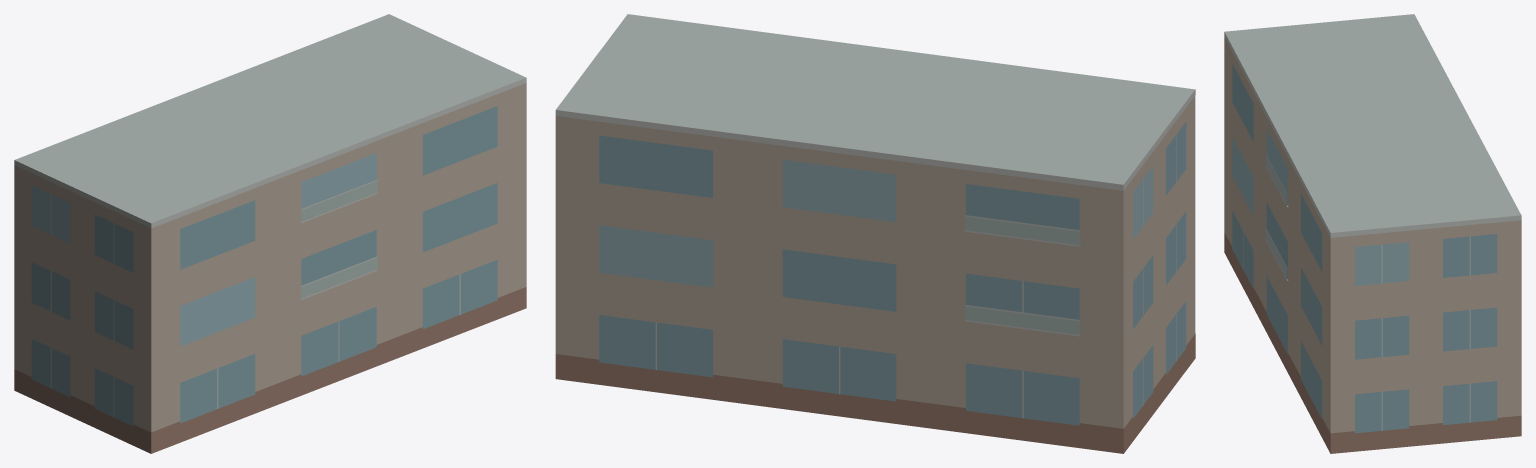
File: survey-upis-32619608.glb
3 views of the same model, side by side, from view 1: azimuth 30°, elevation 25°; view 2: azimuth 150°, elevation 25°; view 3: azimuth 270°, elevation 25° (orthographic). The views are drawn at different scales.
Visible parts, largest first — view 1: survey-upis-32619608.tmp; view 2: survey-upis-32619608.tmp; view 3: survey-upis-32619608.tmp.
Part boxes in pixels (box(x1,y1,x2,y2)): survey-upis-32619608.tmp: box(14, 14, 526, 453); survey-upis-32619608.tmp: box(555, 14, 1195, 453); survey-upis-32619608.tmp: box(1224, 14, 1521, 453).
Bounding box in the file's own units: 23.47 × 11.03 × 13.46.
